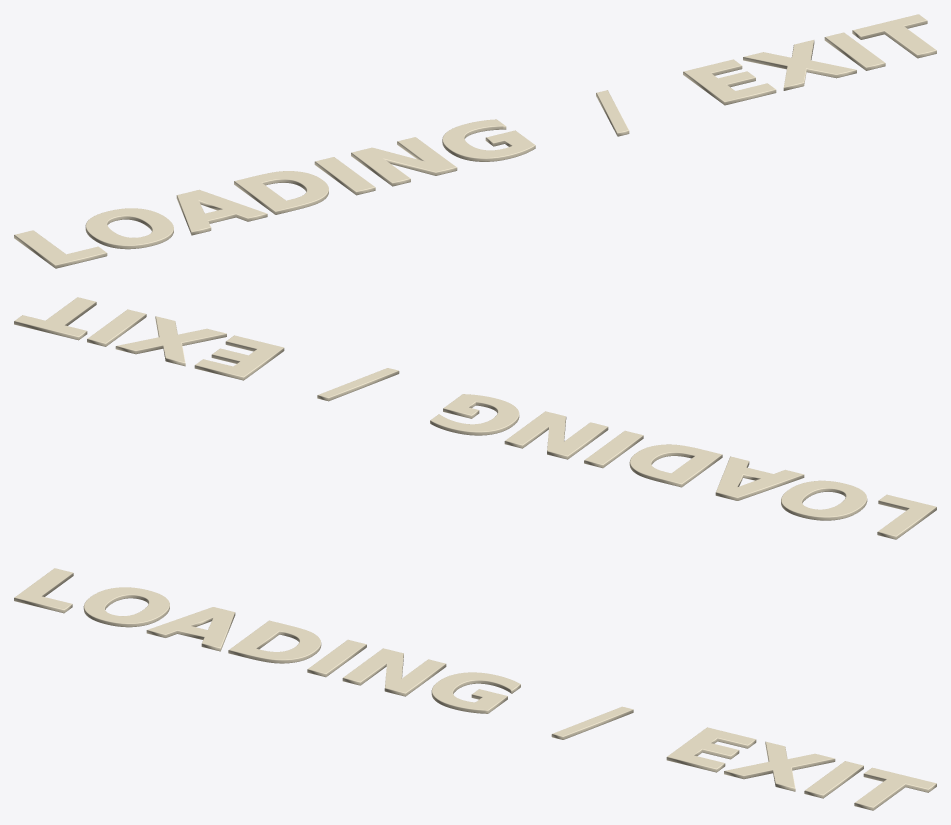
Rendered from SM_EG_Yard_direction_06ef536413.fbx.
3 views of the same model, one above another, from view 1: azimuth 30°, elevation 25°; view 2: azimuth 150°, elevation 25°; view 3: azimuth 330°, elevation 25° (orthographic). The views are drawn at different scales.
Visible parts, largest first — view 1: SM_EG_Yard_direction_06ef536413; view 2: SM_EG_Yard_direction_06ef536413; view 3: SM_EG_Yard_direction_06ef536413.
Part boxes in pixels (bbox=[...]): SM_EG_Yard_direction_06ef536413: bbox=[14, 14, 936, 268]; SM_EG_Yard_direction_06ef536413: bbox=[14, 297, 936, 539]; SM_EG_Yard_direction_06ef536413: bbox=[14, 568, 936, 810].
Bounding box in the file's own units: 105 × 9.59 × 0.44.
